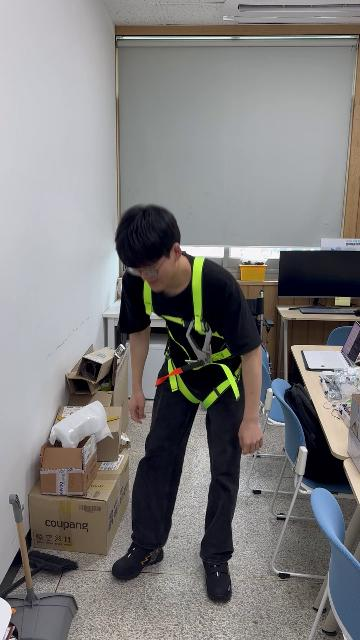helmet_not_worn: (112, 203, 183, 266)
shoe_worn: (112, 542, 165, 580), (202, 560, 232, 602)
vest_worn: (153, 260, 243, 403)
